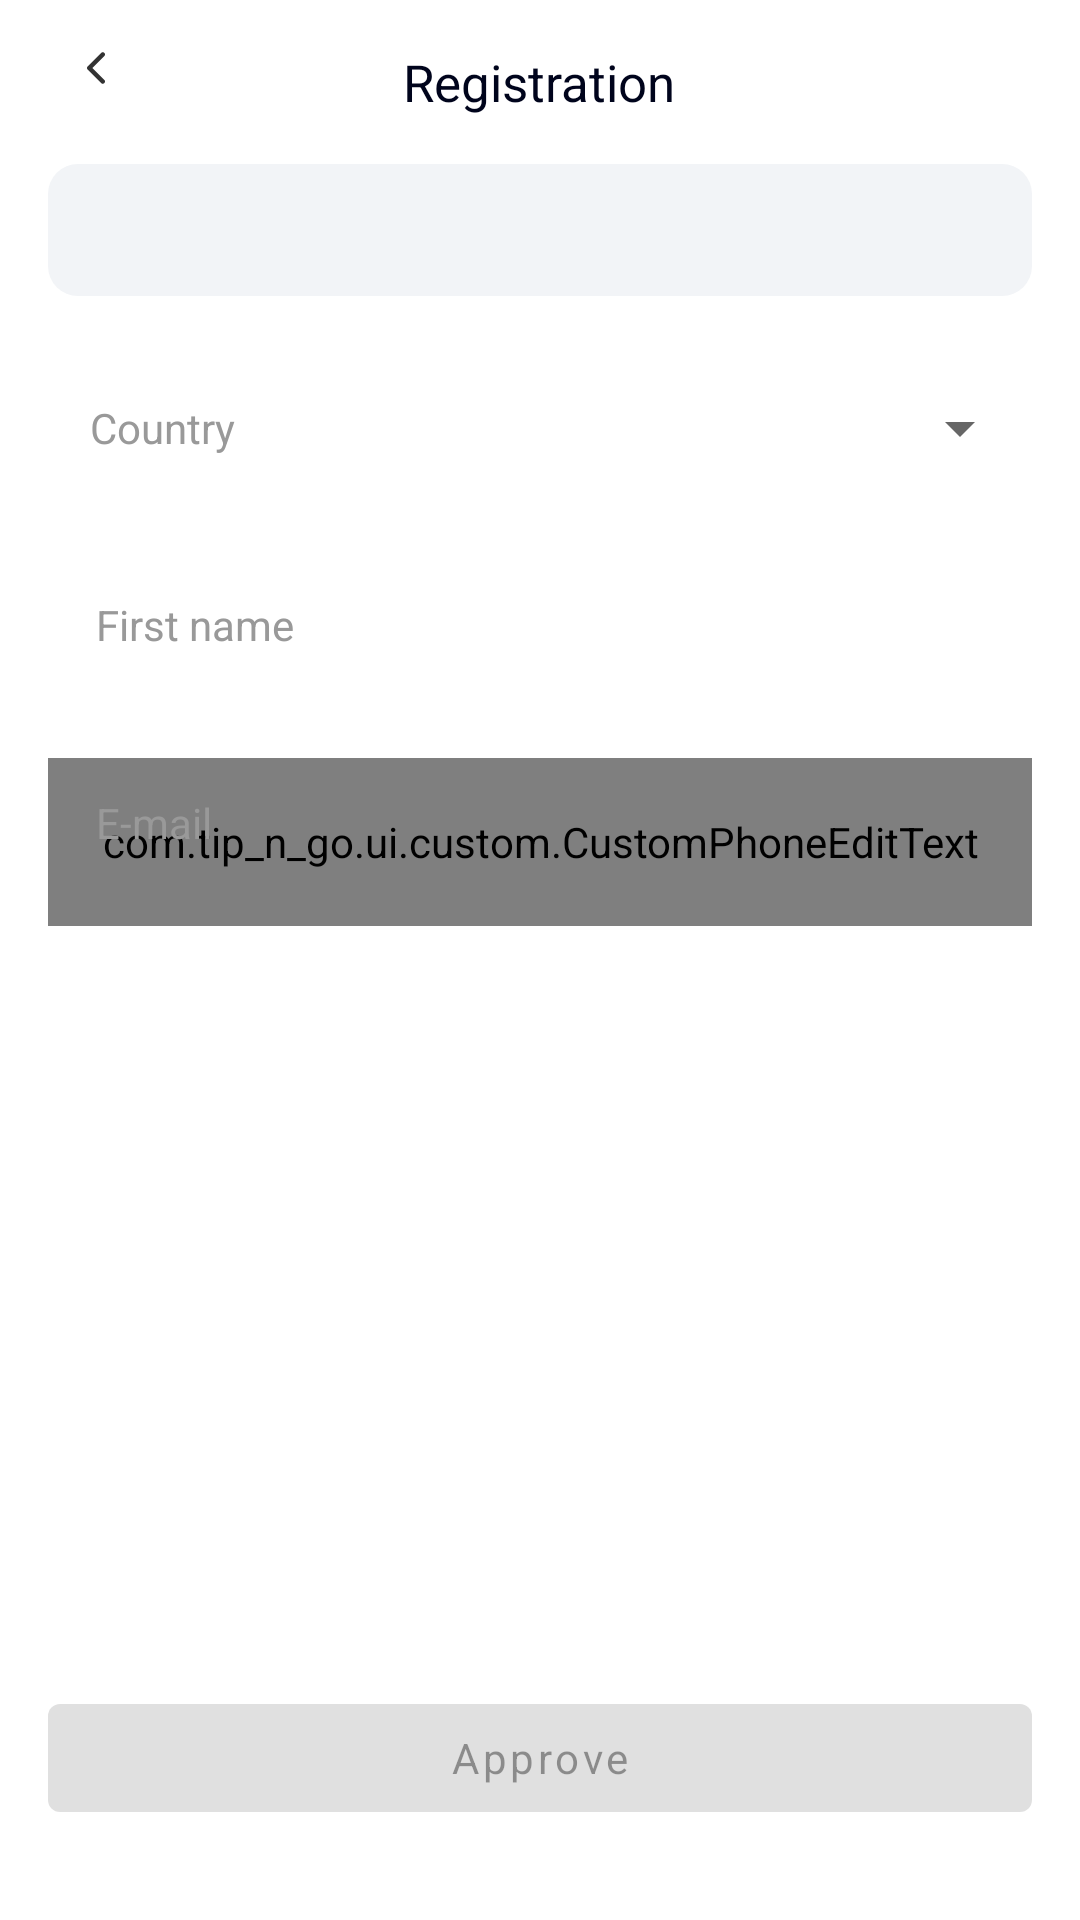

Named icons in this screenshot (1080*1920) and their bounding boxes, (x1, y1, x2, y2):
arrow back: (87, 52, 105, 84)
